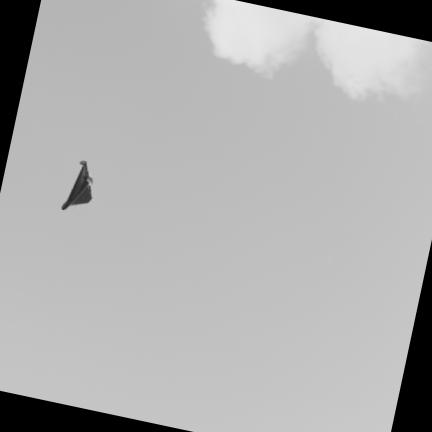Shahed: (62, 161, 92, 209)
